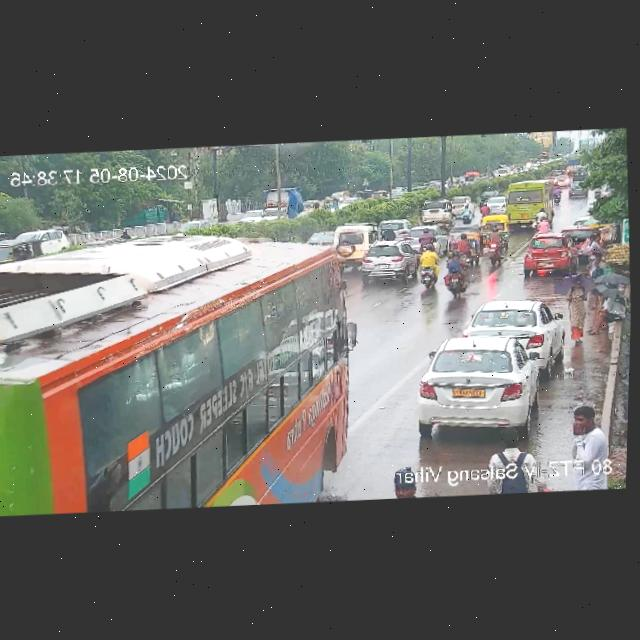bus: (0, 235, 371, 519), (498, 181, 556, 226)
car: (412, 333, 542, 437), (466, 297, 563, 360), (490, 431, 534, 490), (358, 242, 421, 282), (520, 235, 576, 276), (444, 219, 482, 266), (333, 224, 382, 260), (380, 460, 424, 500), (478, 212, 513, 259), (14, 226, 67, 255), (0, 234, 40, 264), (420, 195, 455, 225), (377, 218, 413, 241), (448, 194, 474, 217), (566, 180, 590, 199), (434, 224, 447, 252), (488, 197, 506, 214), (481, 189, 499, 197)
motorcycle: (440, 250, 469, 302), (419, 242, 442, 289), (482, 227, 504, 254), (529, 208, 550, 230), (417, 229, 435, 252), (461, 200, 474, 225), (457, 232, 471, 255), (554, 174, 572, 186), (553, 184, 563, 205), (464, 172, 479, 184), (480, 201, 488, 214), (120, 230, 128, 238)
person: (558, 271, 595, 350), (564, 403, 609, 459), (582, 286, 629, 336), (578, 231, 608, 270)
truck: (265, 187, 303, 222)
